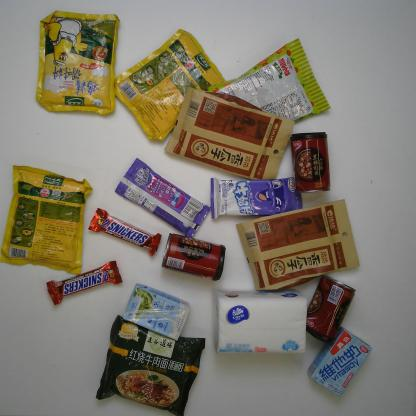Candy: (114, 155, 212, 238), (208, 174, 305, 220)
Canned Food: (304, 273, 358, 345), (160, 231, 229, 283), (289, 130, 336, 194)
Chocolate: (87, 206, 162, 258), (45, 260, 125, 306)
Dried Food: (162, 84, 297, 183), (235, 197, 361, 294)
Instant Noodles: (94, 313, 206, 415)
Milk: (306, 326, 374, 399), (119, 281, 192, 342)
Puffed Food: (207, 36, 332, 126)
Seasoner: (112, 27, 229, 142), (2, 164, 92, 277), (34, 9, 121, 117)
Tissue: (212, 286, 308, 358)
